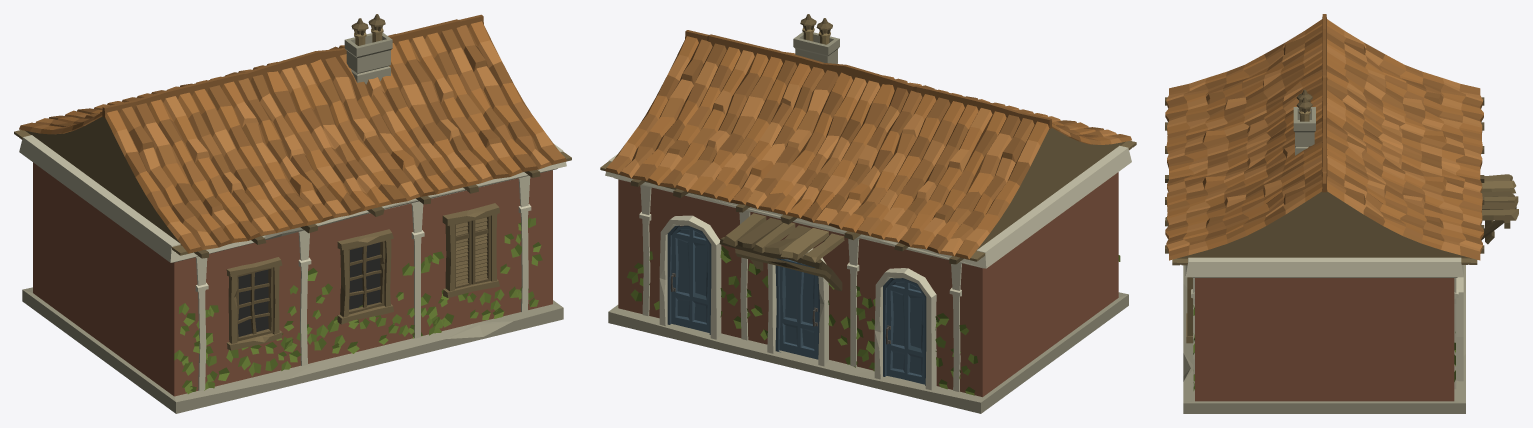
Rendered from Building_12.fbx.
The picture shows the model from 3 angles, left to right: view 1: azimuth 30°, elevation 25°; view 2: azimuth 150°, elevation 25°; view 3: azimuth 270°, elevation 25°; orthographic projection. The views are drawn at different scales.
Visible parts, largest first — view 1: Building_12; view 2: Building_12; view 3: Building_12.
Part boxes in pixels (x1,y1,x2,y2): Building_12: (14,14,571,413); Building_12: (600,14,1136,413); Building_12: (1165,14,1518,413).
Size of the model in its own units: 890 by 613 by 750.
